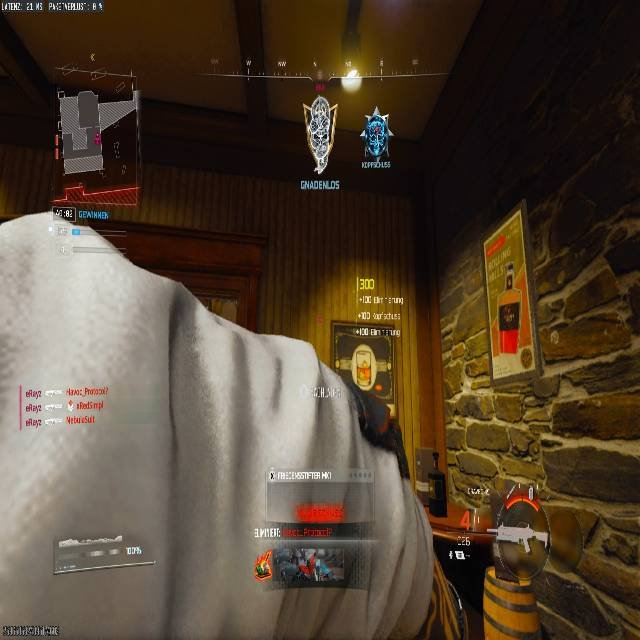player: (360, 109, 392, 165)
